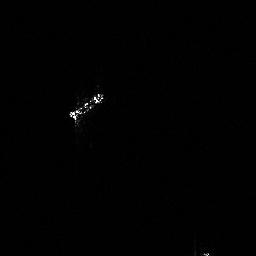ship: (65, 88, 106, 126)
